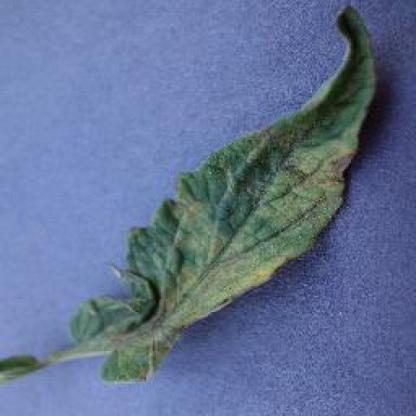Tomato_Leaf_Mold: (80, 11, 371, 385)
